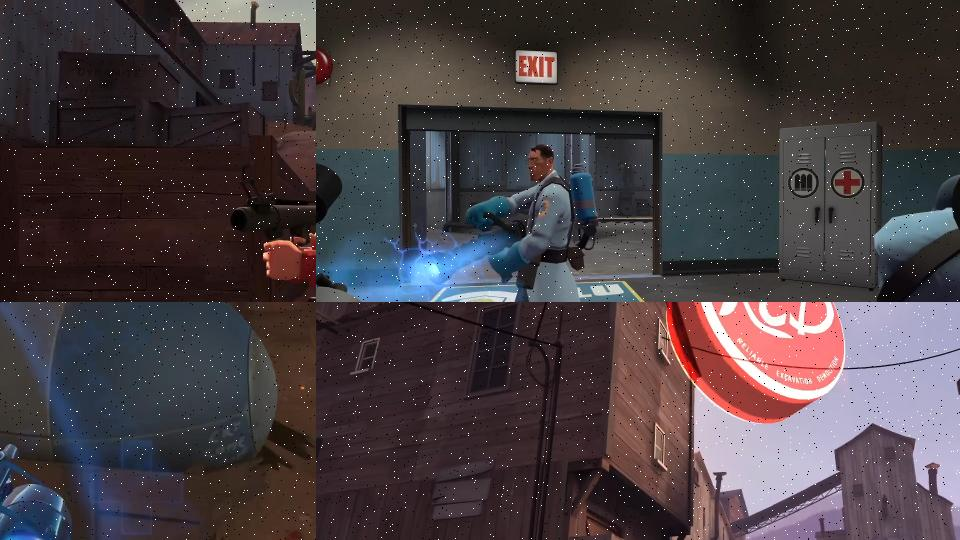Enemy: (421, 143, 614, 302), (836, 139, 960, 302), (0, 302, 70, 540), (226, 147, 316, 302)
